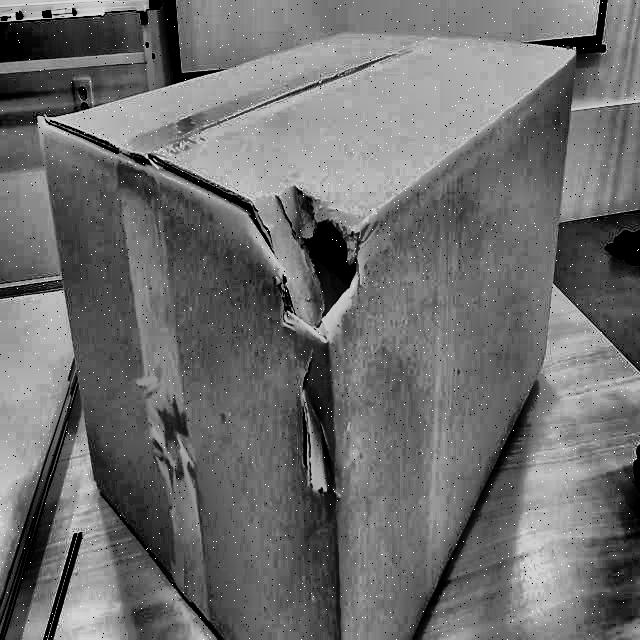box: (25, 15, 592, 639)
hole: (275, 183, 368, 345)
